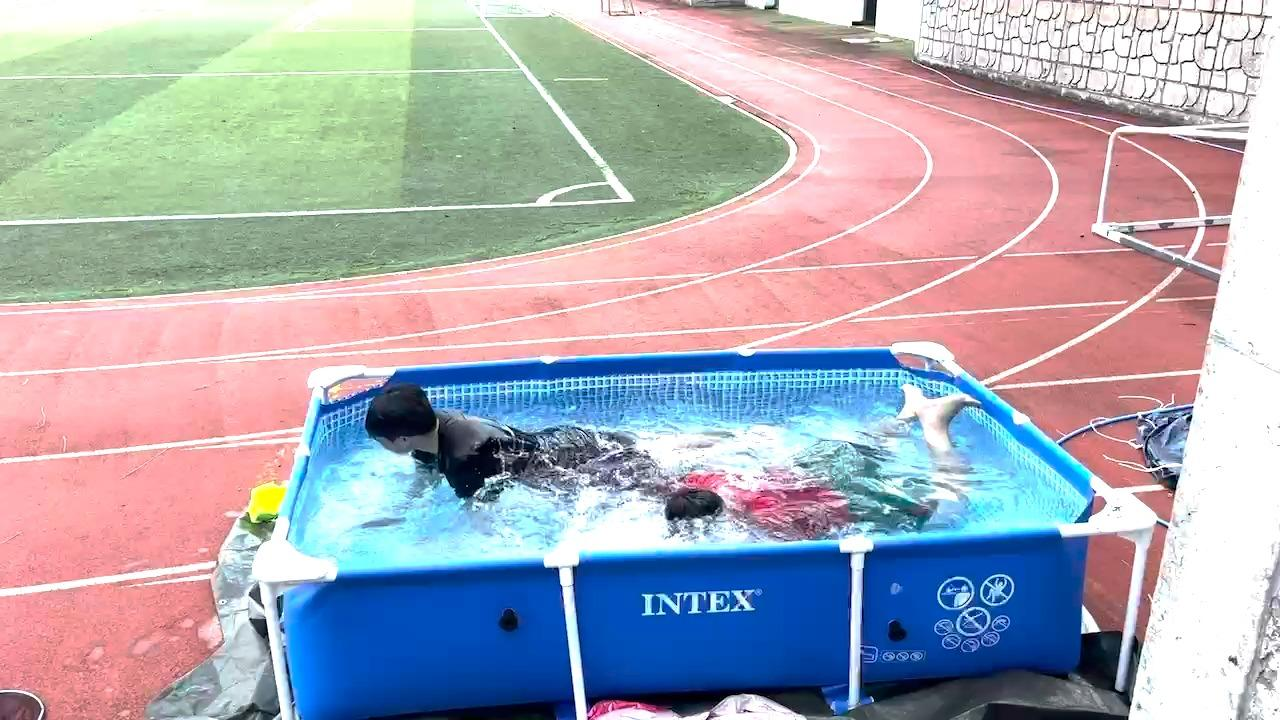Drowning: (660, 389, 987, 530), (348, 370, 624, 510)
